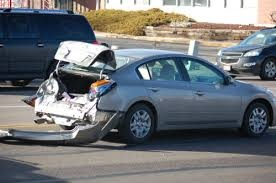Dent: (33, 66, 122, 129)
